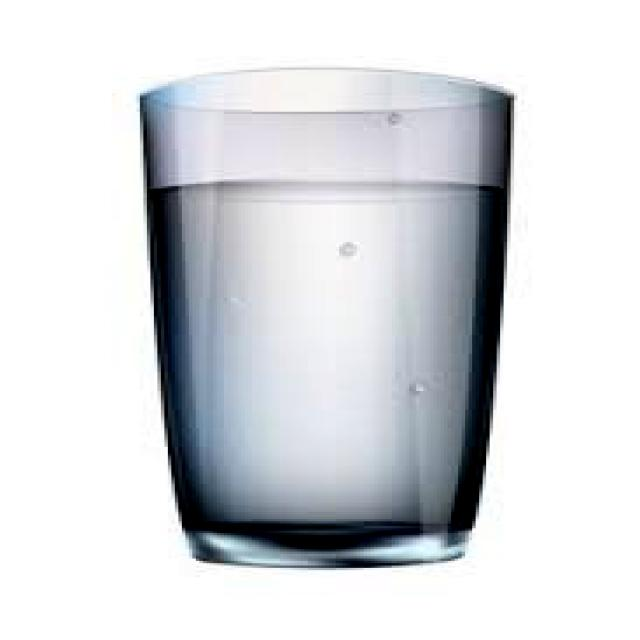Glass: (133, 58, 514, 577)
